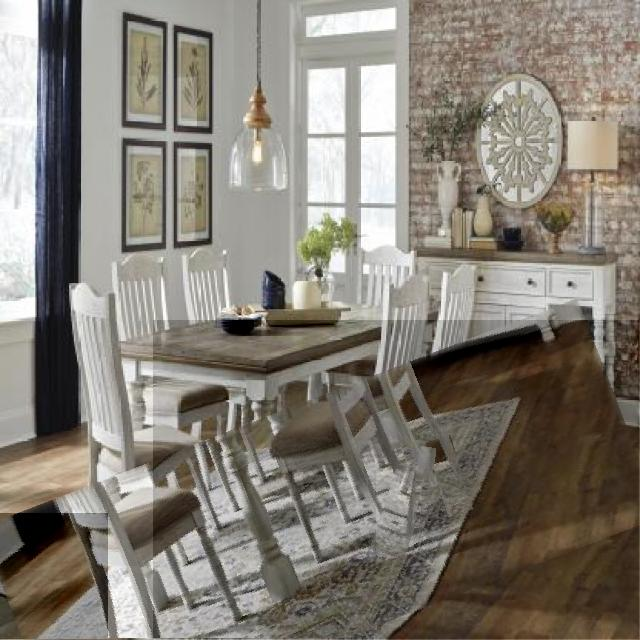floor: (153, 321, 640, 639), (0, 513, 108, 640), (427, 440, 471, 517), (103, 567, 147, 639), (376, 471, 414, 552), (415, 447, 429, 530)
